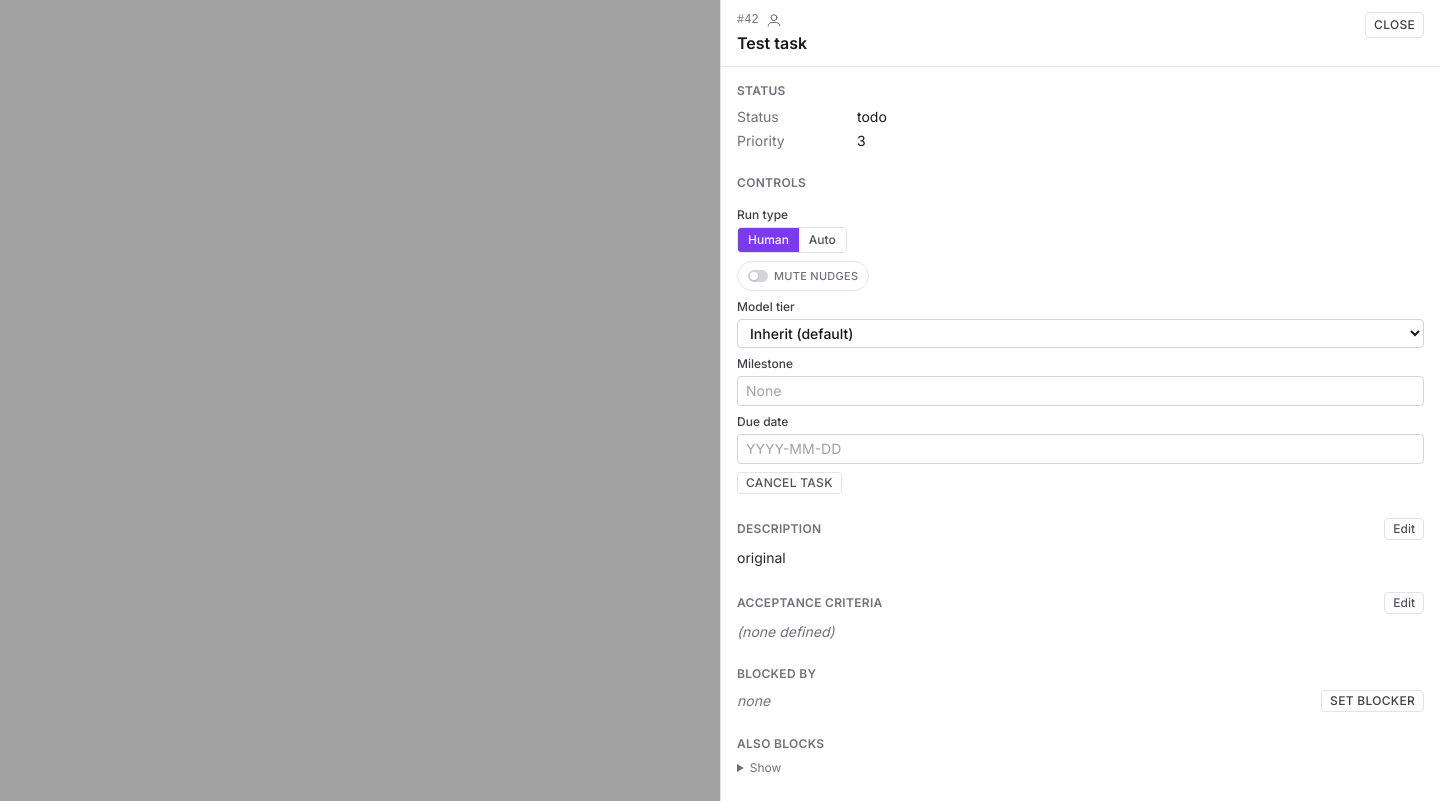
TaskDetail — description edit › cancel restores the original description
Click the button with aria-label "edit description" at {"x": 1404, "y": 529}, box [1384, 518, 1424, 540]
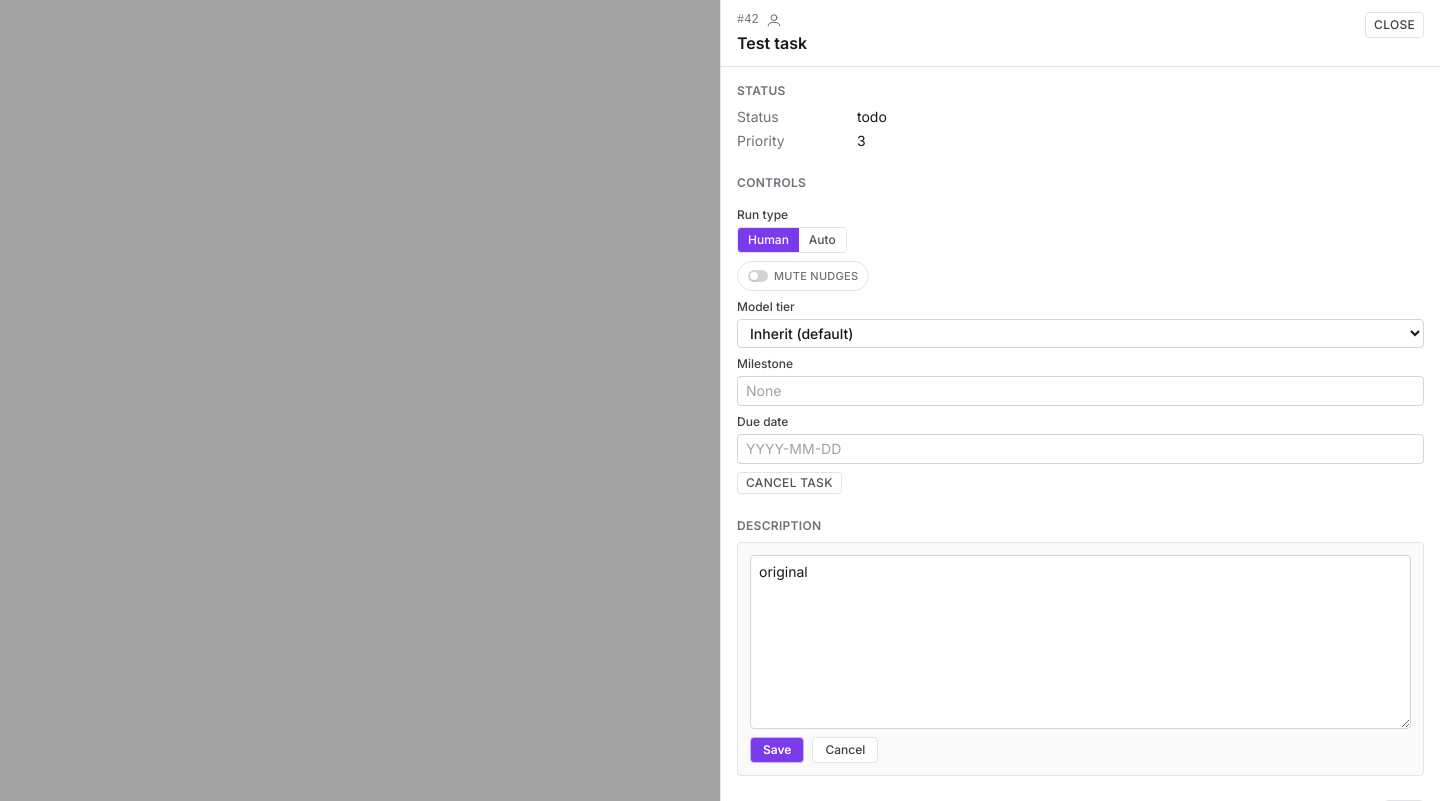
Replace the text in the text box with "discard me" at {"x": 1080, "y": 642}, box [750, 555, 1411, 729]
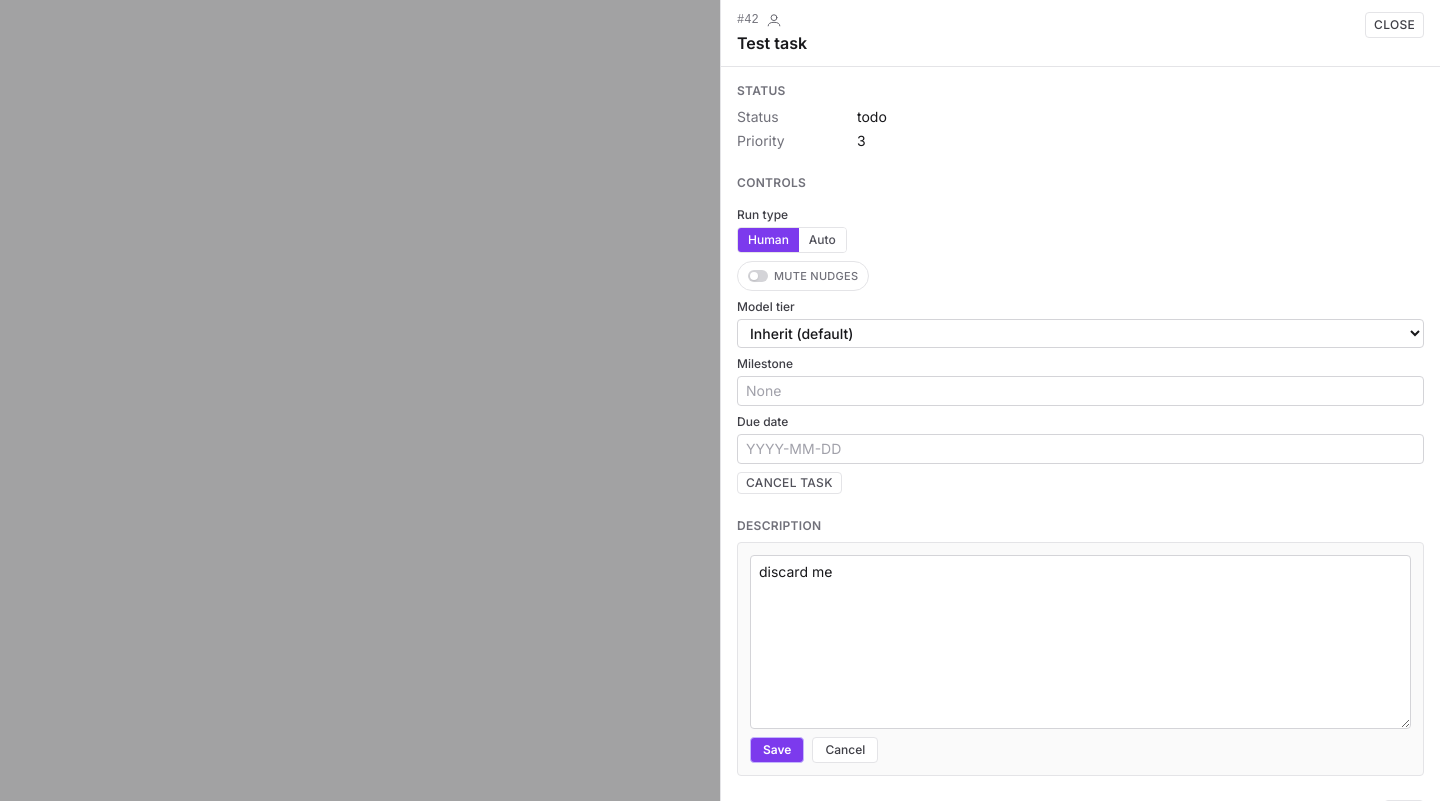
Click the button "Cancel" at {"x": 845, "y": 750}, box [812, 737, 878, 763]
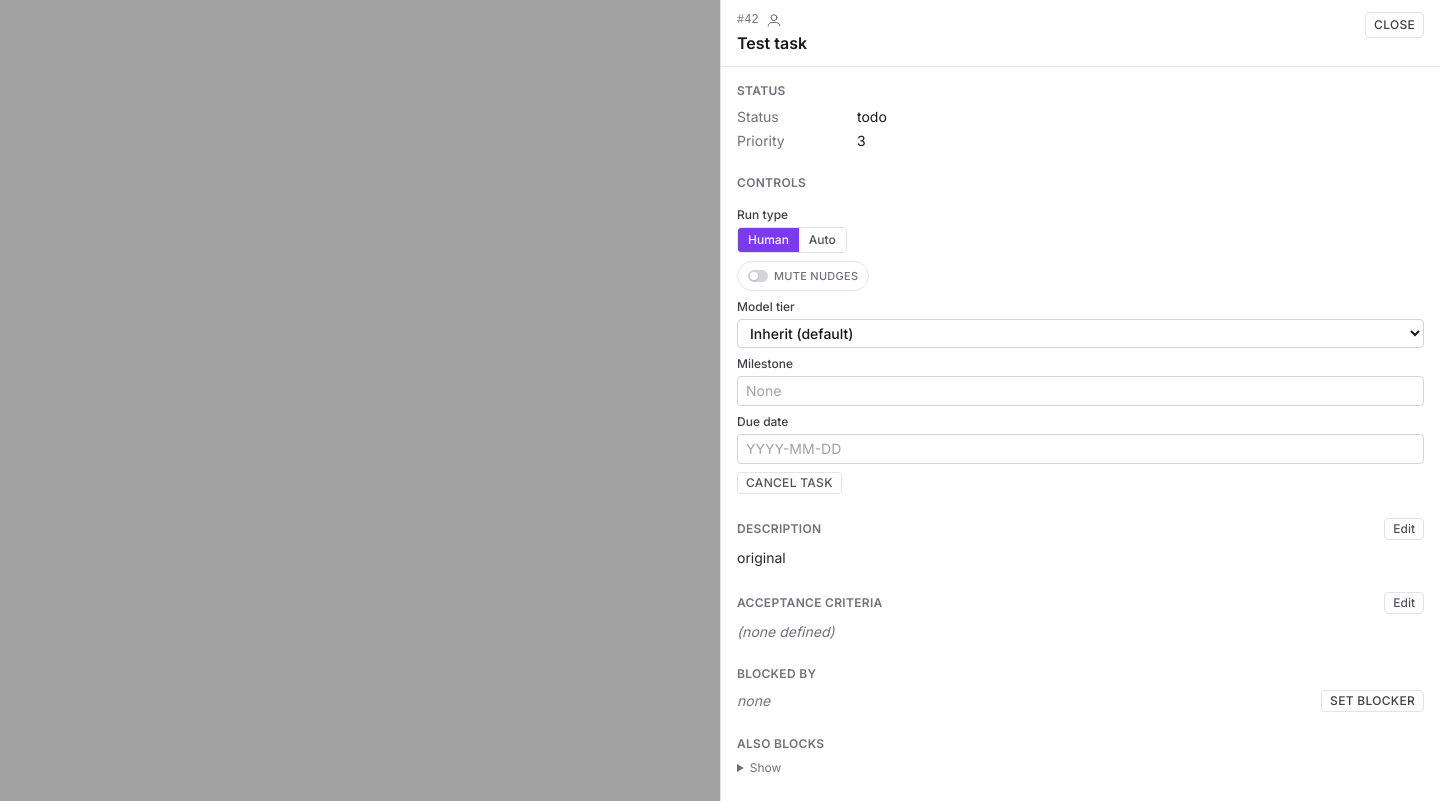
expect the text "original" is shown: met, box [737, 549, 786, 566]
